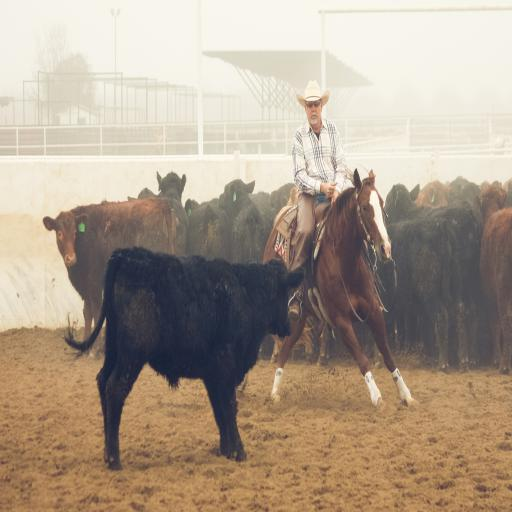horse: (234, 169, 420, 411)
